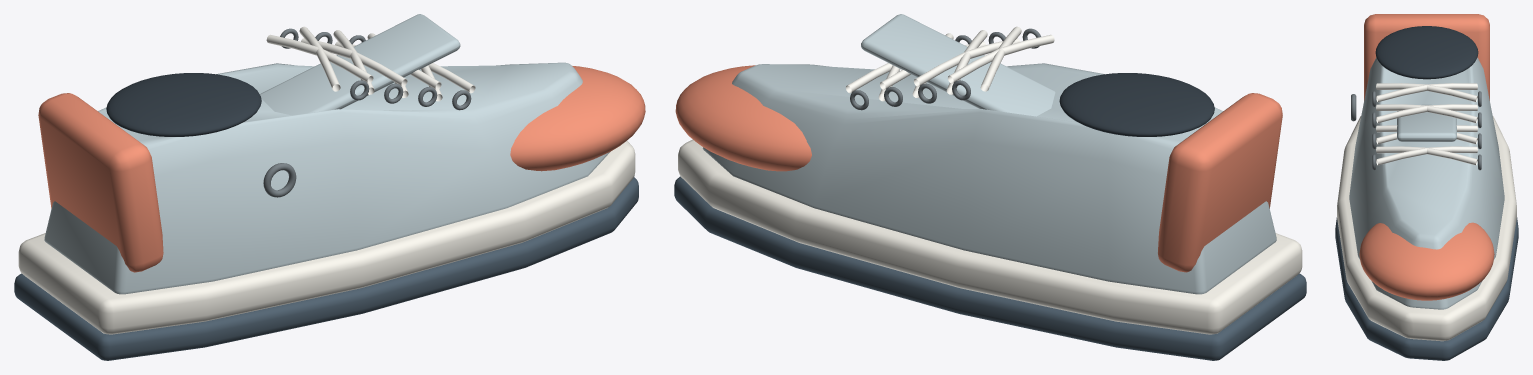
Rendered from soleview-shoe.glb.
The picture shows the model from 3 angles, left to right: view 1: azimuth 30°, elevation 25°; view 2: azimuth 150°, elevation 25°; view 3: azimuth 270°, elevation 25°; orthographic projection. The views are drawn at different scales.
Visible parts, largest first — view 1: Upper, Midsole, Outsole, HeelPanel, ToeCap, Collar, Tongue, Laces, Eyelets, CharmAnchor; view 2: Upper, Midsole, Outsole, HeelPanel, ToeCap, Collar, Tongue, Laces, Eyelets; view 3: Upper, Midsole, ToeCap, Laces, Collar, Outsole, HeelPanel, Tongue, Eyelets, CharmAnchor.
Boxes of the visible parts, x1,y1,x2,y2 form: Upper: (44,62,609,294); Midsole: (18,140,635,334); Outsole: (14,177,638,360); HeelPanel: (38,93,163,272); ToeCap: (510,66,645,171); Collar: (106,73,261,136); Tongue: (260,14,460,115); Laces: (266,26,475,101); Eyelets: (280,28,471,110); CharmAnchor: (263,163,296,197); Upper: (702,63,1276,294); Midsole: (678,139,1302,334); Outsole: (674,176,1306,360); HeelPanel: (1158,93,1282,272); ToeCap: (675,65,811,171); Collar: (1059,73,1214,136); Tongue: (861,14,1055,116); Laces: (845,26,1054,101); Eyelets: (850,28,1040,110); Upper: (1349,57,1504,309); Midsole: (1337,116,1516,341); ToeCap: (1359,222,1494,300); Laces: (1376,83,1477,165); Collar: (1375,26,1478,79); Outsole: (1335,217,1518,360); HeelPanel: (1364,14,1489,100); Tongue: (1397,104,1456,141); Eyelets: (1372,91,1481,170); CharmAnchor: (1351,94,1356,121).
Size of the model in its own units: 6.82 by 2.46 by 2.5.
